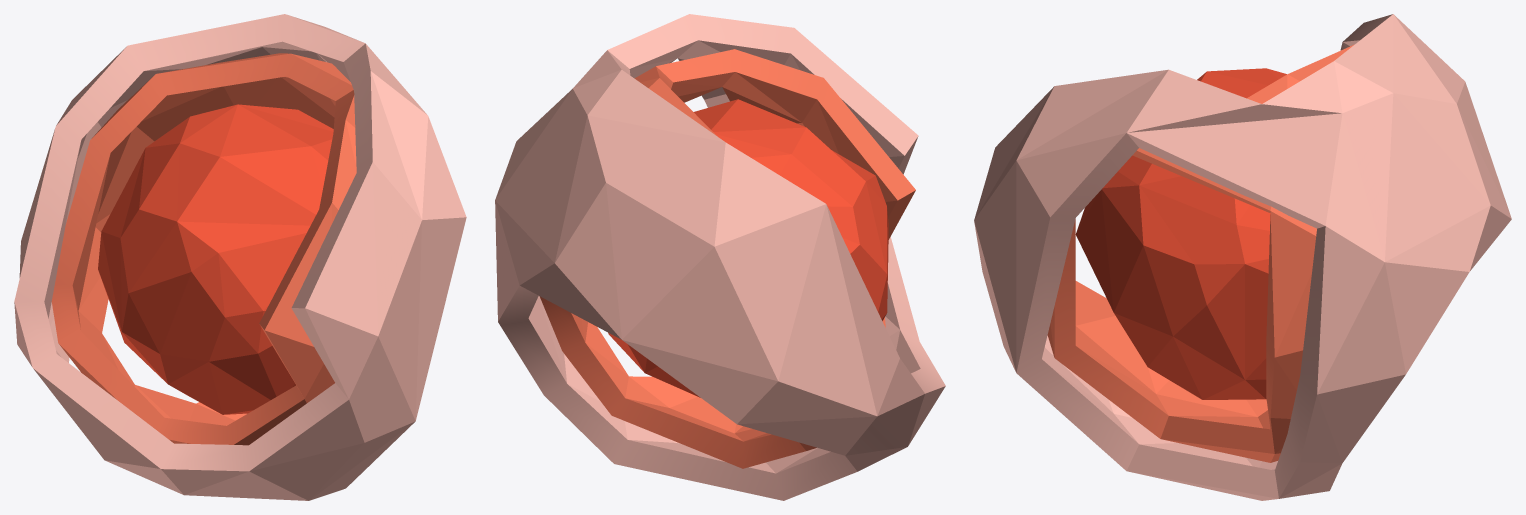
The model's file is Planet_09_a.fbx.
3 renders of one model, left to right at view 1: azimuth 30°, elevation 25°; view 2: azimuth 150°, elevation 25°; view 3: azimuth 270°, elevation 25°, orthographic. The views are drawn at different scales.
Parts seen in each view (by area): view 1: Planet_015; view 2: Planet_015; view 3: Planet_015.
Part boxes in pixels (left/top/right/bottom): Planet_015: left=14, top=14, right=466, bottom=500; Planet_015: left=495, top=14, right=945, bottom=500; Planet_015: left=974, top=14, right=1511, bottom=500.
Size of the model in its own units: 78.3 by 78.56 by 83.72.
